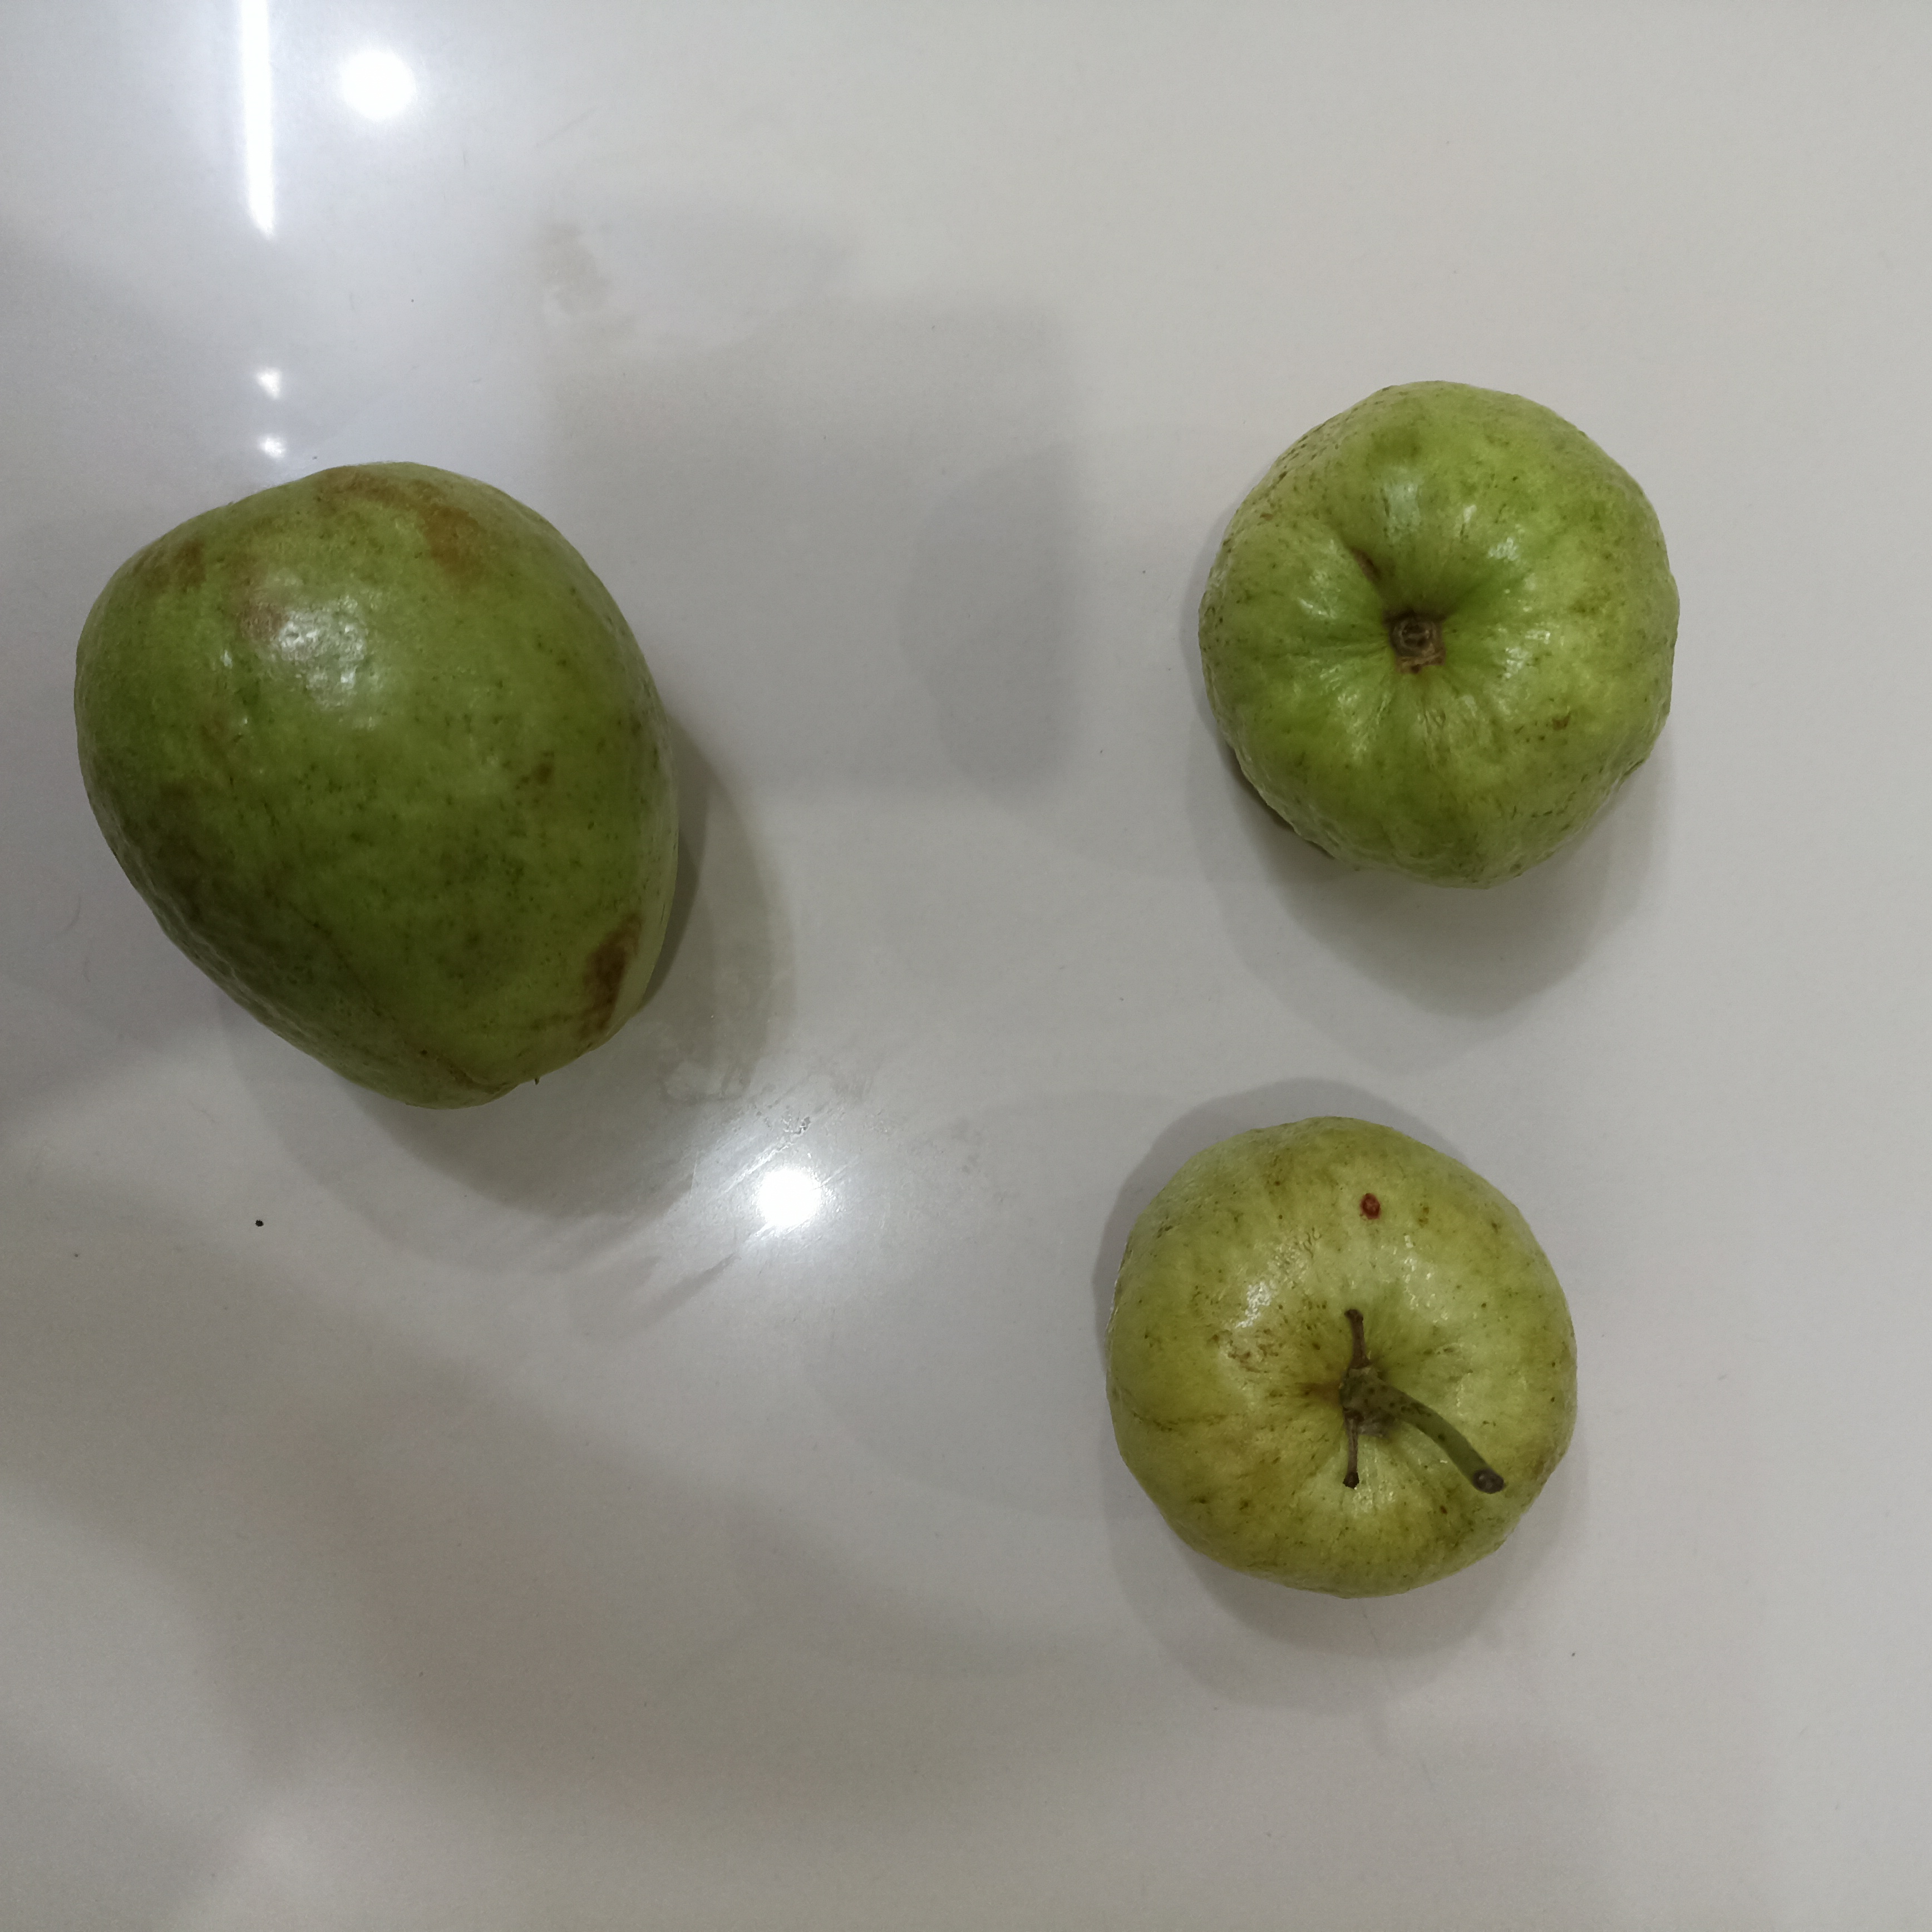Oi: (65, 458, 682, 1121), (1194, 379, 1679, 897), (1097, 1105, 1577, 1609)
